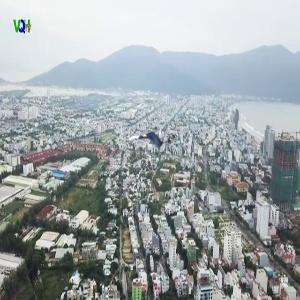drone: (131, 123, 171, 163)
